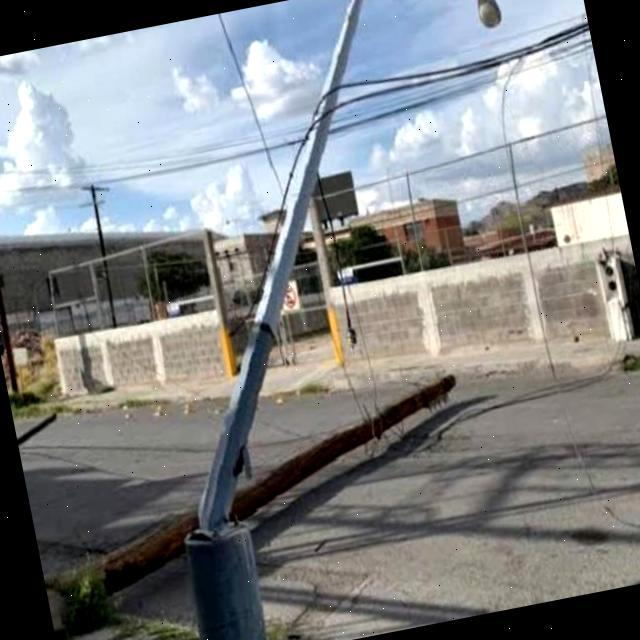Broken Pole: (184, 0, 364, 640), (82, 371, 459, 606)
